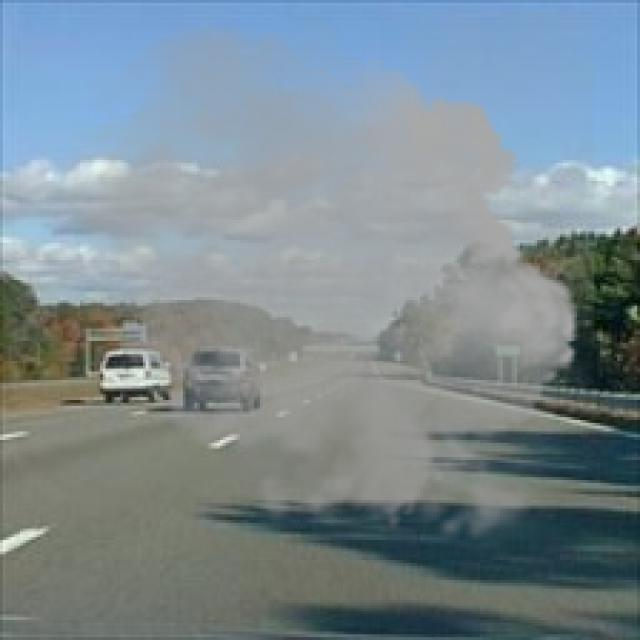Smoke: (46, 11, 594, 558)
